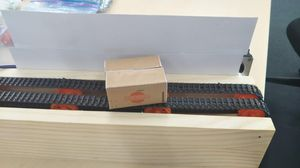box1: (102, 53, 168, 109)
